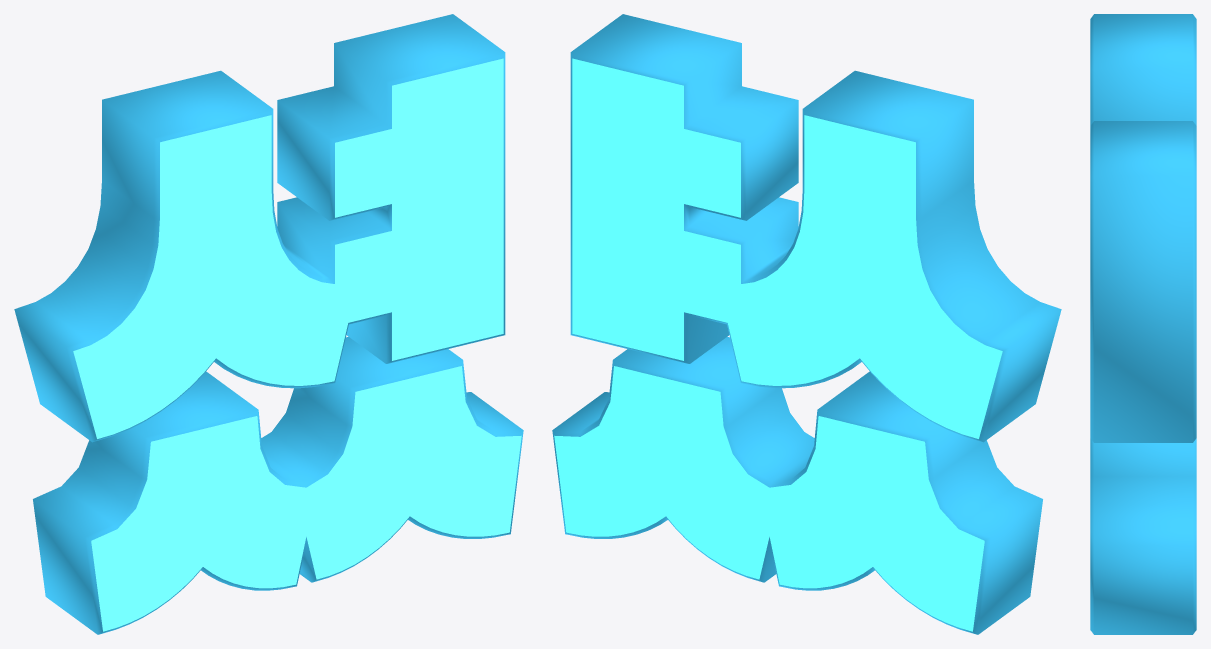
3 views of the same model, side by side, from view 1: azimuth 30°, elevation 25°; view 2: azimuth 150°, elevation 25°; view 3: azimuth 270°, elevation 25° (orthographic). The views are drawn at different scales.
Visible parts, largest first — view 1: glyph; view 2: glyph; view 3: glyph.
Boxes of the visible parts, bbox=[...] form: glyph: bbox=[14, 14, 523, 634]; glyph: bbox=[552, 14, 1061, 634]; glyph: bbox=[1090, 14, 1196, 634].
Size of the model in its own units: 0.1053 by 0.1064 by 0.0225.
